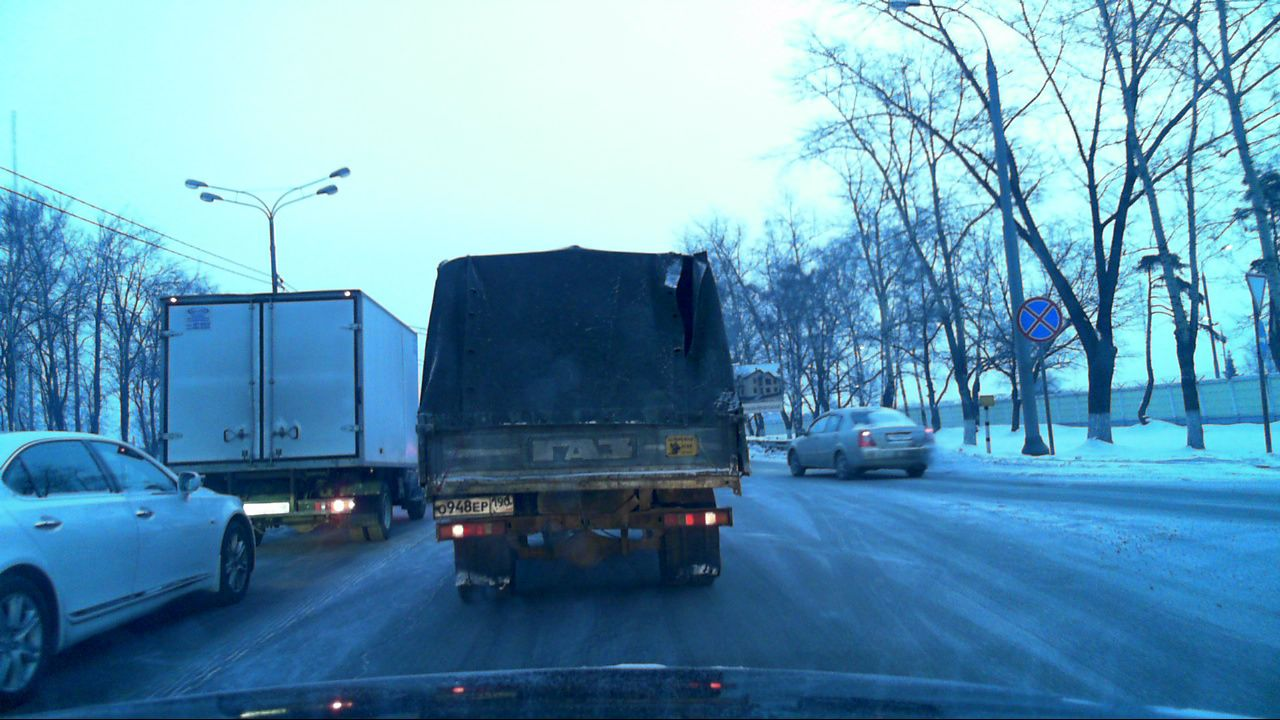No Parking: (1018, 297, 1062, 342)
